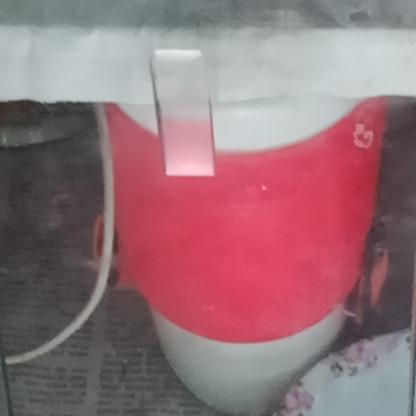bottle: (96, 91, 390, 399)
